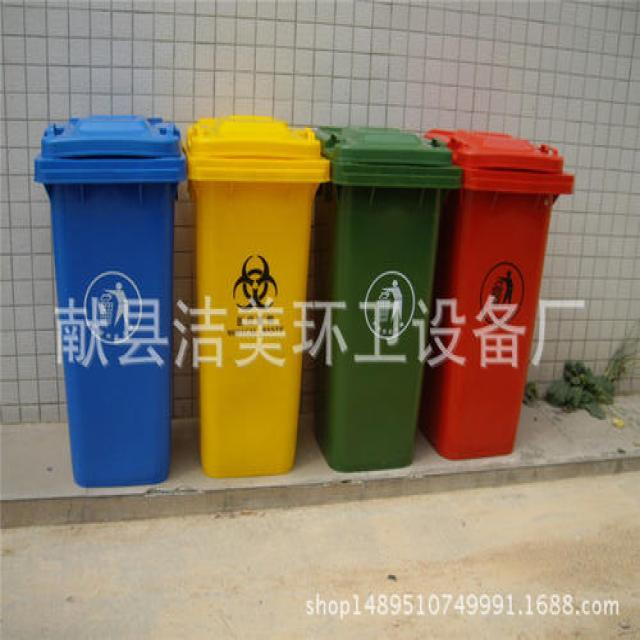garbage_bin: (34, 113, 184, 488), (180, 114, 330, 478), (314, 121, 462, 473), (424, 126, 572, 459)
